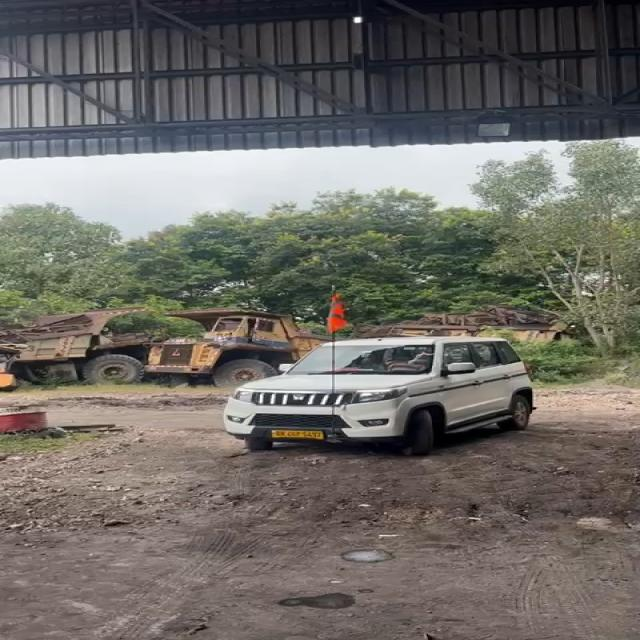light_vehicle: (228, 336, 550, 450)
